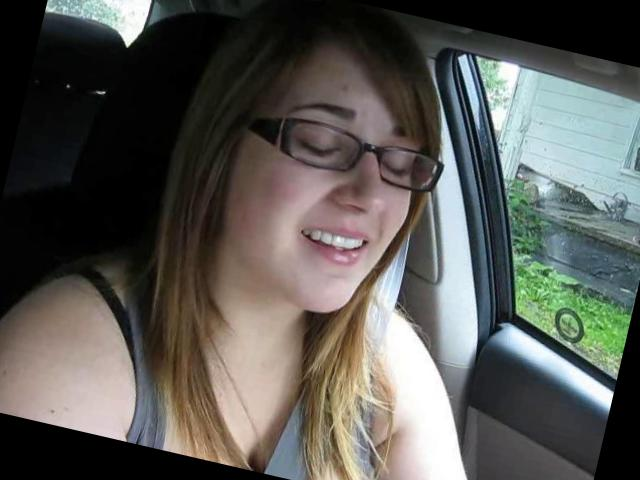eye_closed: (285, 125, 353, 174), (373, 149, 420, 189)
face: (206, 66, 436, 330)
